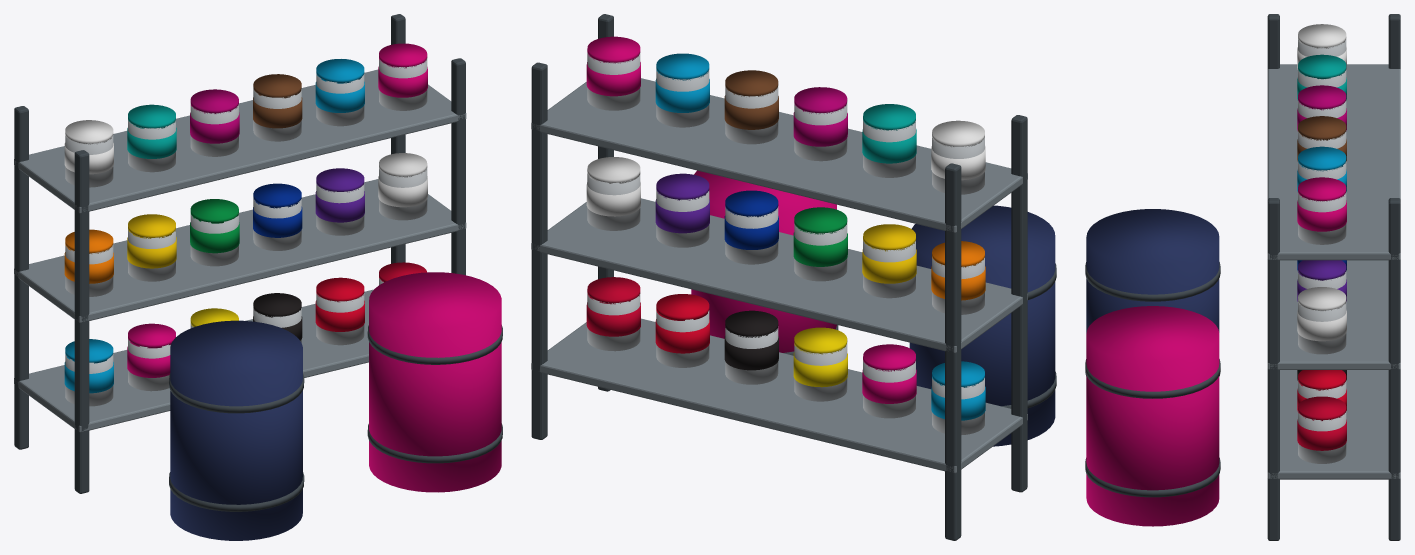
File: m_inkshelf.glb
3 renders of one model, left to right at view 1: azimuth 30°, elevation 25°; view 2: azimuth 150°, elevation 25°; view 3: azimuth 270°, elevation 25°, orthographic. The views are drawn at different scales.
Parts seen in each view (by area): view 1: m_inkshelf; view 2: m_inkshelf; view 3: m_inkshelf.
Boxes of the visible parts, x1,y1,x2,y2 form: m_inkshelf: (14, 14, 502, 540); m_inkshelf: (531, 14, 1056, 540); m_inkshelf: (1085, 14, 1400, 540).
Size of the model in its own units: 0.74 by 0.62 by 0.522.
